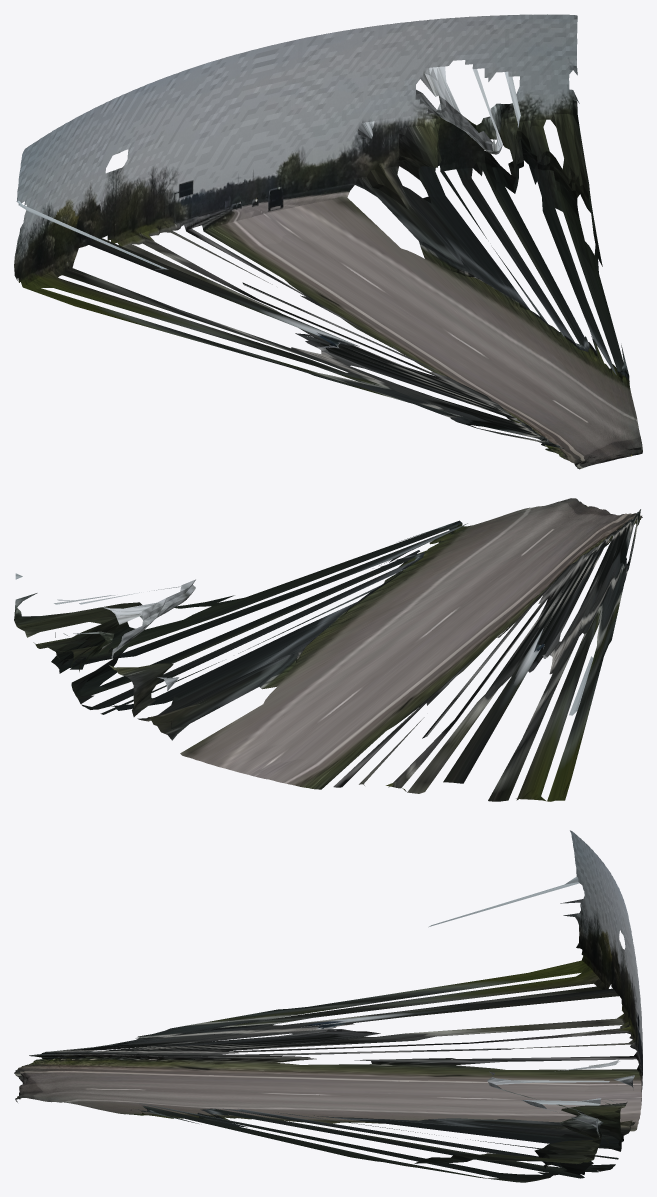
3 renders of one model, top to bottom at view 1: azimuth 30°, elevation 25°; view 2: azimuth 150°, elevation 25°; view 3: azimuth 270°, elevation 25°, orthographic. The views are drawn at different scales.
Visible parts, largest first — view 1: defaultobject; view 2: defaultobject; view 3: defaultobject.
Part boxes in pixels (left/top/right/bottom): defaultobject: left=14, top=14, right=642, bottom=469; defaultobject: left=14, top=498, right=642, bottom=801; defaultobject: left=14, top=830, right=642, bottom=1182.
Bounding box in the file's own units: 41.05 × 12.28 × 44.5.
1 material, 1 textured.
